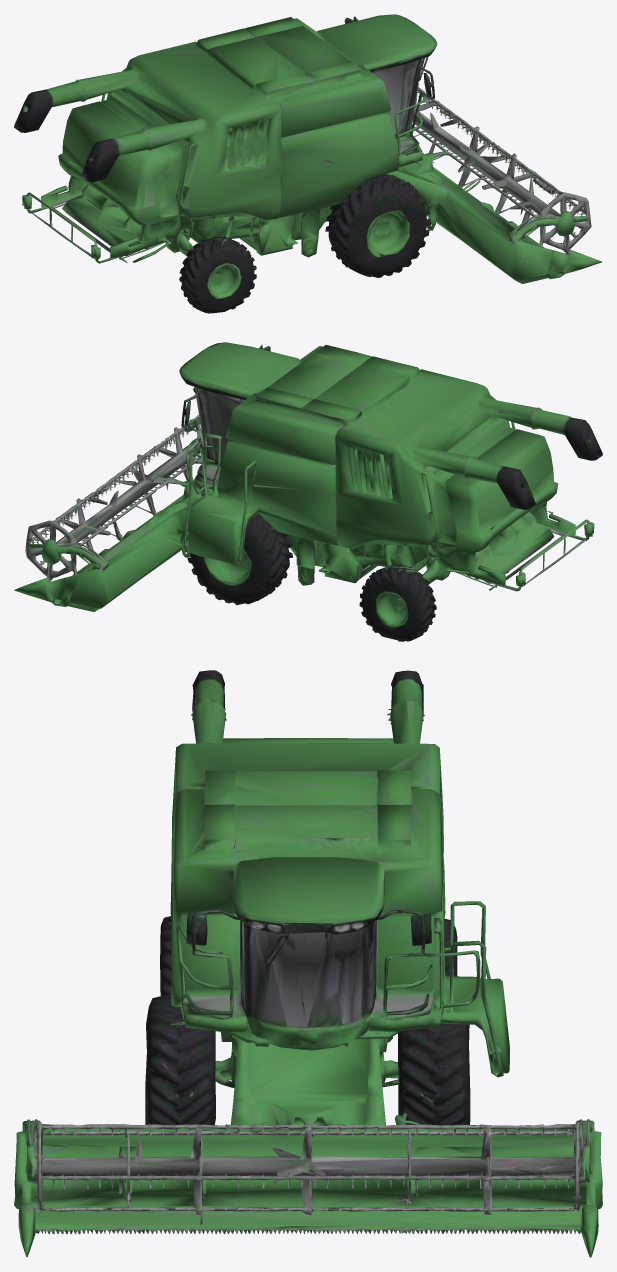
File: combine.glb
The picture shows the model from 3 angles, top to bottom: view 1: azimuth 30°, elevation 25°; view 2: azimuth 150°, elevation 25°; view 3: azimuth 270°, elevation 25°; orthographic projection. The views are drawn at different scales.
Parts seen in each view (by area): view 1: Mesh_0; view 2: Mesh_0; view 3: Mesh_0.
Part boxes in pixels (x1,y1,x2,y2): Mesh_0: (14, 14, 602, 313); Mesh_0: (14, 342, 602, 641); Mesh_0: (14, 670, 602, 1257).
Bounding box in the file's own units: 9.01 × 3.75 × 6.77.
Materials: 1 (1 with a texture image).
